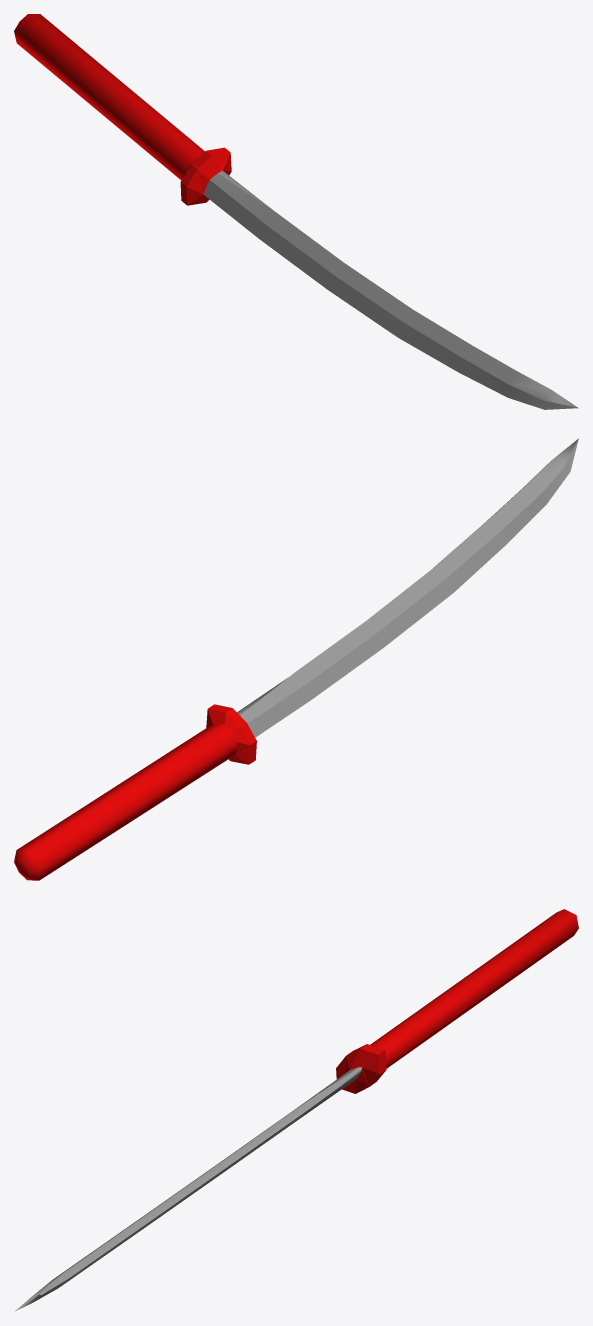
Rendered from katana.fbx.
3 views of the same model, one above another, from view 1: azimuth 30°, elevation 25°; view 2: azimuth 150°, elevation 25°; view 3: azimuth 330°, elevation 25° (orthographic).
Visible parts, largest first — view 1: Sword_Mesh.001; view 2: Sword_Mesh.001; view 3: Sword_Mesh.001.
Part boxes in pixels (x1,y1,x2,y2): Sword_Mesh.001: [14, 14, 578, 409]; Sword_Mesh.001: [14, 438, 578, 880]; Sword_Mesh.001: [15, 909, 578, 1311].
Size of the model in its own units: 673 by 669 by 13476.
